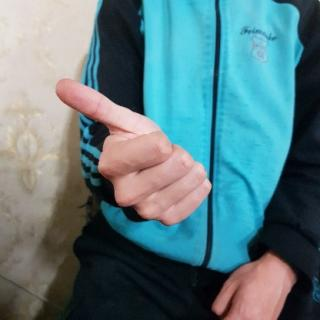ALIF: (51, 76, 213, 226)
